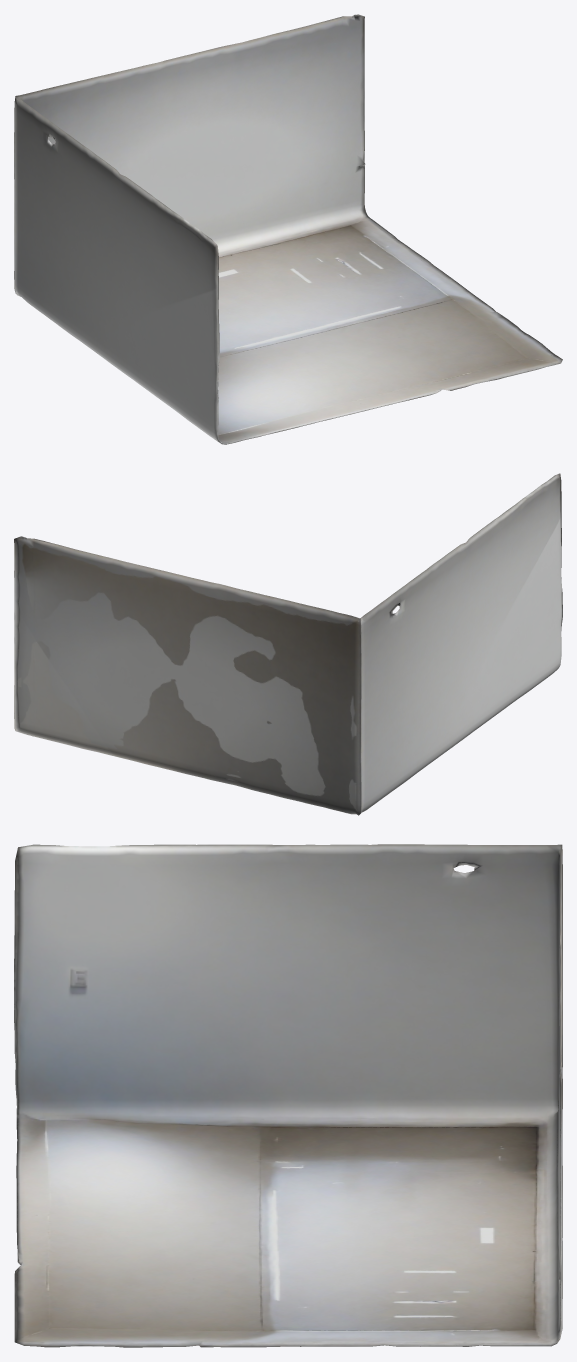
The model's file is room.glb.
3 views of the same model, one above another, from view 1: azimuth 30°, elevation 25°; view 2: azimuth 150°, elevation 25°; view 3: azimuth 270°, elevation 25° (orthographic). The views are drawn at different scales.
Size of the model in its own units: 1.99 by 1.11 by 2.01.
1 material, 1 textured.
